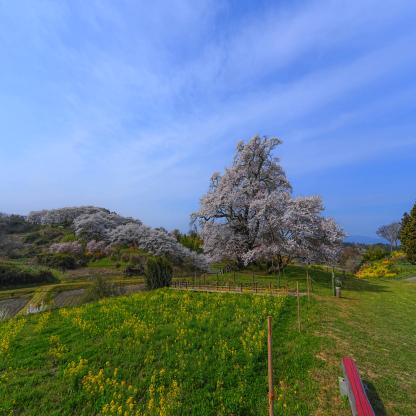EdohiganSakura: (190, 132, 350, 276)
